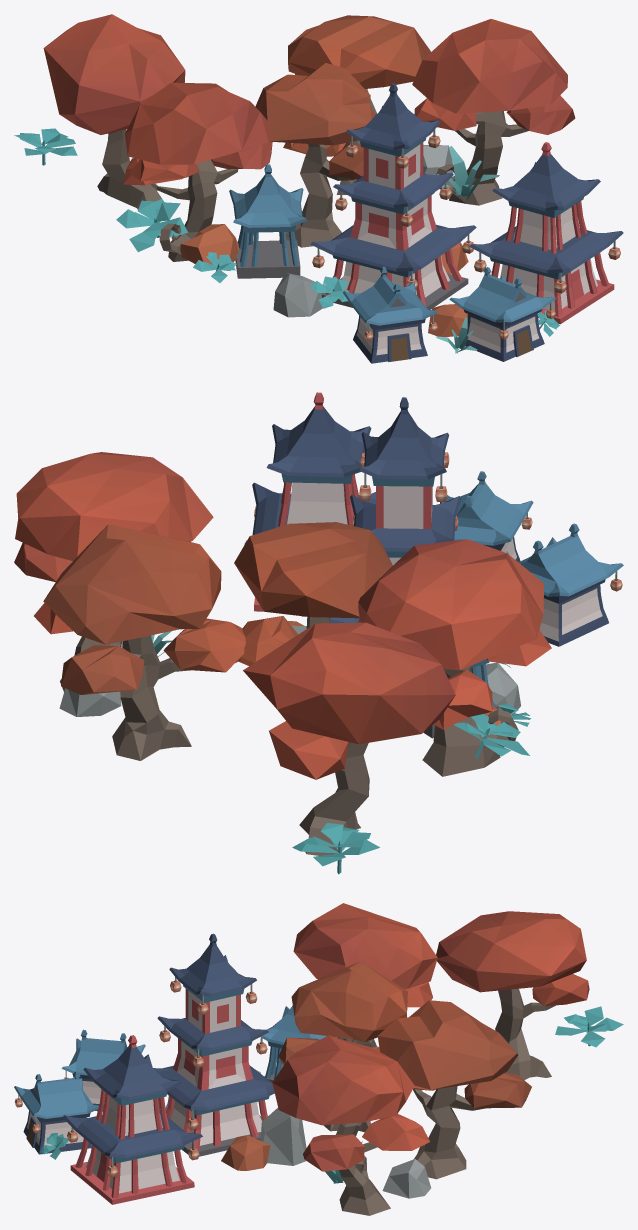
File: townBurning1.fbx
3 views of the same model, one above another, from view 1: azimuth 30°, elevation 25°; view 2: azimuth 150°, elevation 25°; view 3: azimuth 270°, elevation 25° (orthographic). The views are drawn at different scales.
Visible parts, largest first — view 1: townBurning1; view 2: townBurning1; view 3: townBurning1.
Boxes of the visible parts, left/top/right/bottom form: townBurning1: left=14, top=14, right=623, bottom=363; townBurning1: left=14, top=392, right=623, bottom=874; townBurning1: left=14, top=903, right=623, bottom=1215.
Bounding box in the file's own units: 6.43 × 3.09 × 8.51.
1 material, 1 textured.
